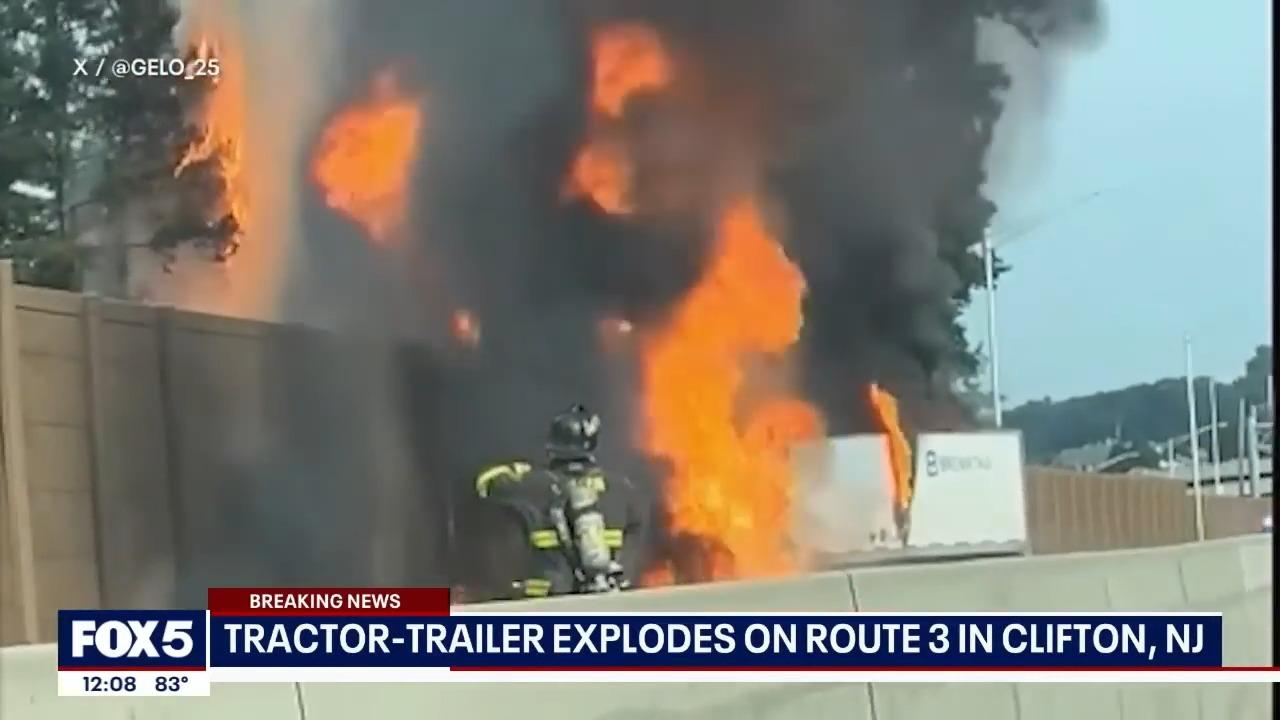fire: (645, 248, 803, 586), (162, 43, 280, 257), (300, 111, 467, 233), (591, 33, 686, 105), (576, 140, 649, 223)
